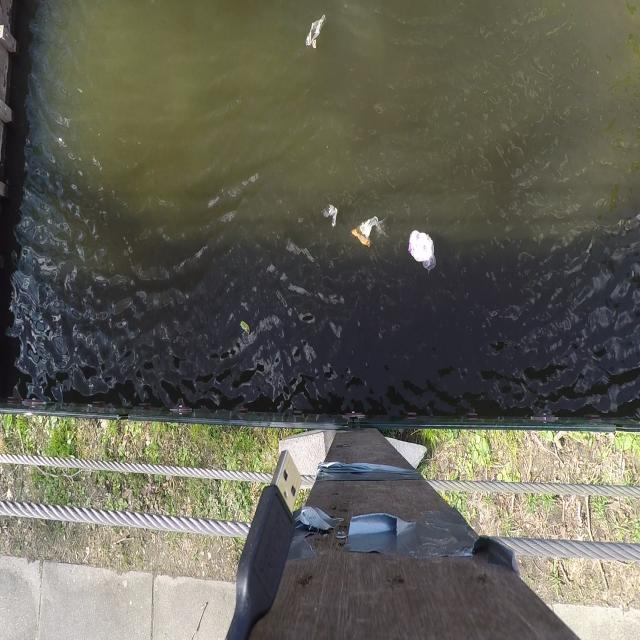Sac plastique: (405, 226, 442, 278), (356, 212, 394, 256), (301, 11, 328, 53), (320, 198, 342, 233)
